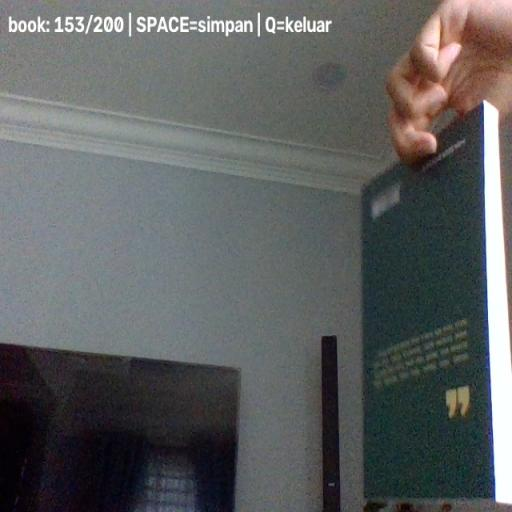Book: (361, 99, 512, 506)
